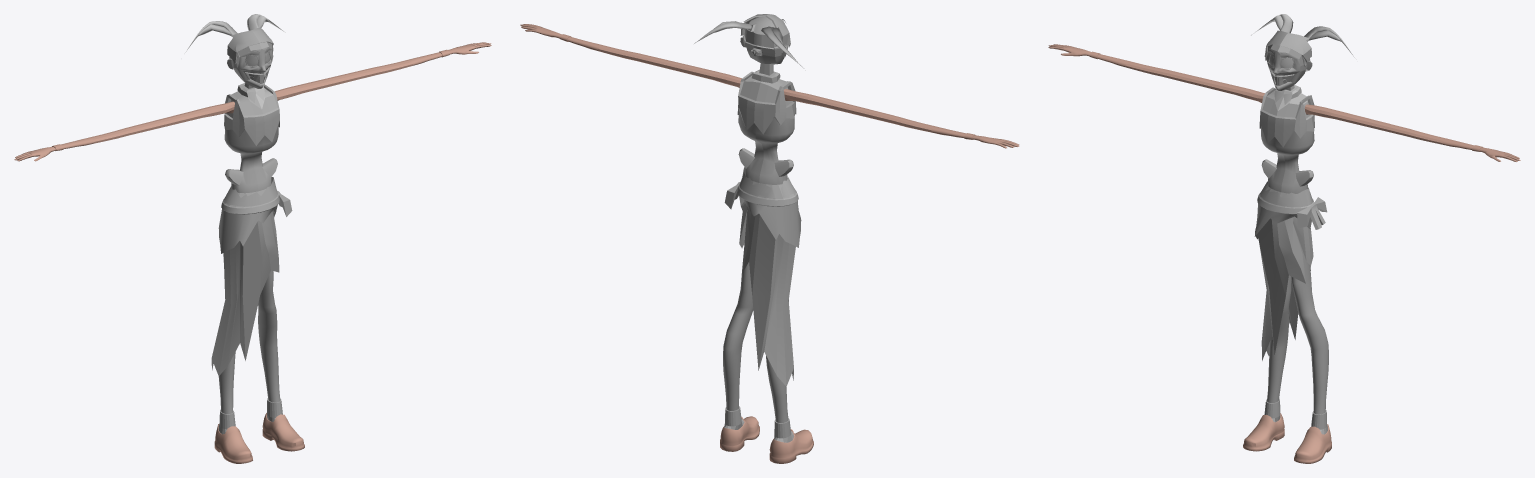
Rendered from MissC.fbx.
The picture shows the model from 3 angles, left to right: view 1: azimuth 30°, elevation 25°; view 2: azimuth 150°, elevation 25°; view 3: azimuth 330°, elevation 25°; orthographic projection. The views are drawn at different scales.
Visible parts, largest first — view 1: skirt, torso2, leftleg, head1, leftjhand1, leftjhand, MensBusinessShoes:shoeL, shoeR, rightleg; view 2: skirt, torso2, leftleg, leftjhand1, leftjhand, head1, rightleg, shoeR, MensBusinessShoes:shoeL; view 3: skirt, torso2, leftleg, head1, leftjhand, leftjhand1, rightleg, shoeR, MensBusinessShoes:shoeL.
Part boxes in pixels (box(x1,y1,x2,y2)): skirt: box(211, 177, 292, 376); torso2: box(223, 83, 279, 207); leftleg: box(258, 270, 282, 421); head1: box(227, 28, 273, 88); leftjhand1: box(14, 101, 234, 161); leftjhand: box(275, 42, 491, 100); MensBusinessShoes:shoeL: box(262, 413, 304, 451); shoeR: box(214, 423, 252, 463); rightleg: box(218, 351, 235, 434); skirt: box(724, 167, 801, 386); torso2: box(737, 63, 796, 198); leftleg: box(723, 247, 753, 429); leftjhand1: box(783, 89, 1019, 148); leftjhand: box(520, 24, 741, 87); head1: box(740, 14, 790, 64); rightleg: box(766, 356, 793, 442); shoeR: box(769, 429, 813, 463); MensBusinessShoes:shoeL: box(720, 416, 759, 451); skirt: box(1254, 181, 1327, 360); torso2: box(1259, 85, 1314, 202); leftleg: box(1291, 226, 1328, 434); head1: box(1264, 30, 1312, 90); leftjhand: box(1304, 104, 1520, 161); leftjhand1: box(1048, 44, 1264, 102); rightleg: box(1264, 275, 1291, 422); shoeR: box(1243, 413, 1284, 451); MensBusinessShoes:shoeL: box(1294, 424, 1331, 463).
Size of the model in its own units: 28.53 by 23.88 by 4.
